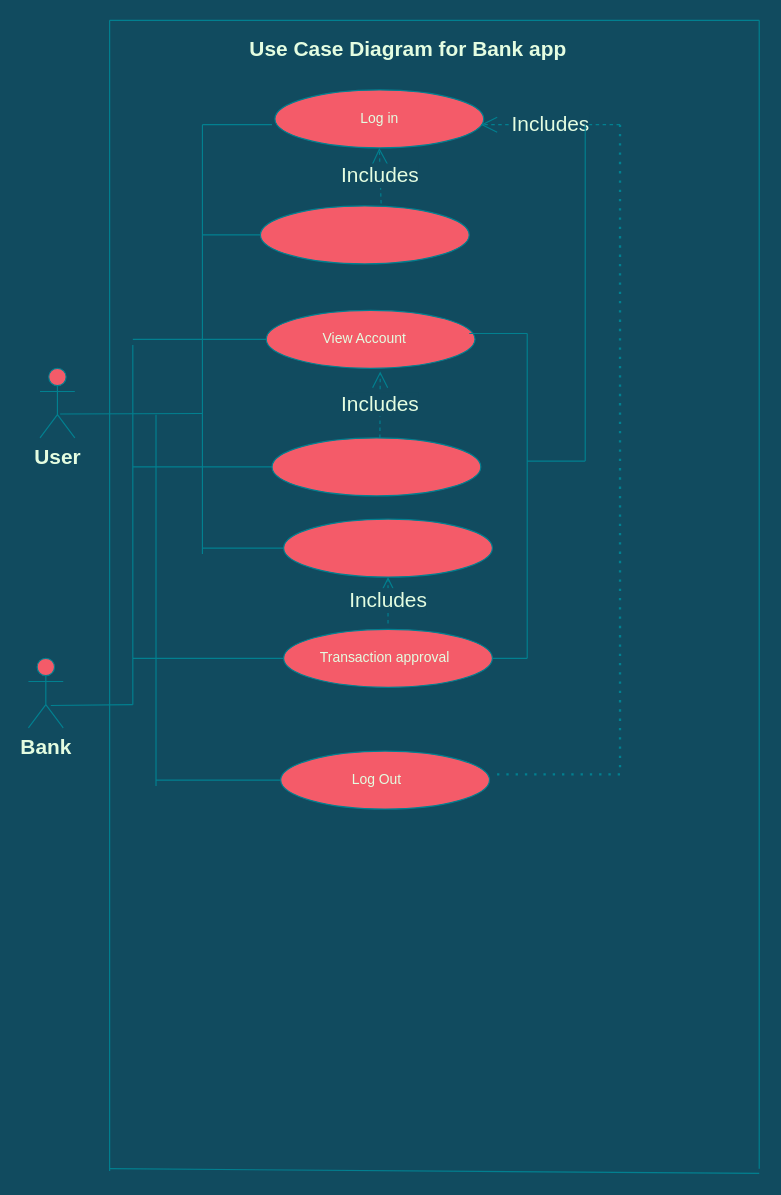
The diagram is 781 pixels wide and 1195 high, and some of its shapes have lost their labels. The shapes that lost their labels are listed below. From the top down, each one's box as (x1, y1, x2, y2) in pixels, then its label:
(259, 205, 469, 264): Signup/ or Account Creation
(271, 437, 481, 496): Check Account Balance
(282, 518, 492, 577): Perform Transaction
